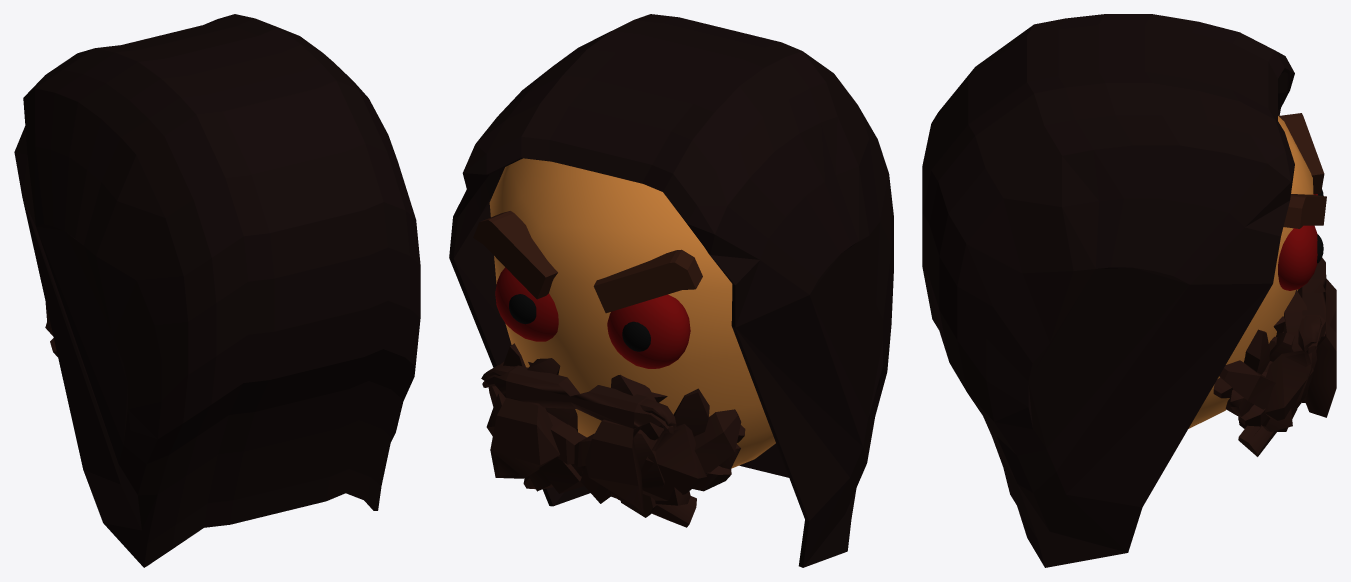
Rendered from C_head.obj.
The picture shows the model from 3 angles, left to right: view 1: azimuth 30°, elevation 25°; view 2: azimuth 150°, elevation 25°; view 3: azimuth 270°, elevation 25°; orthographic projection. The views are drawn at different scales.
Visible parts, largest first — view 1: Plane.001; view 2: Plane.001; view 3: Plane.001.
Part boxes in pixels (<box>): Plane.001: <box>14,14,420,567</box>; Plane.001: <box>449,14,893,567</box>; Plane.001: <box>922,14,1336,567</box>.
Bounding box in the file's own units: 0.2076 × 0.2946 × 0.2396.
